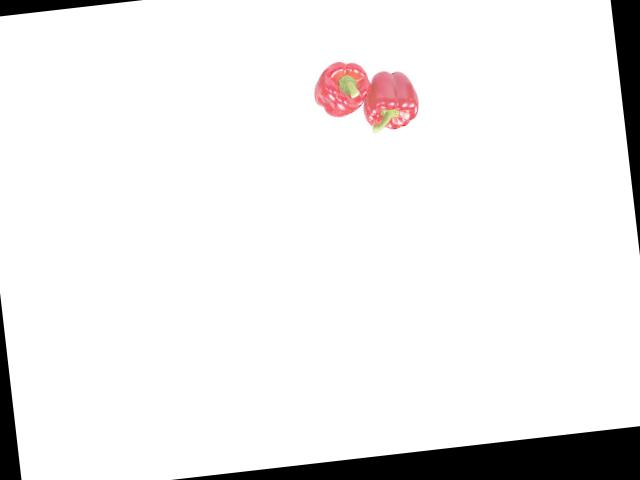bell_pepper: (357, 63, 423, 136)
